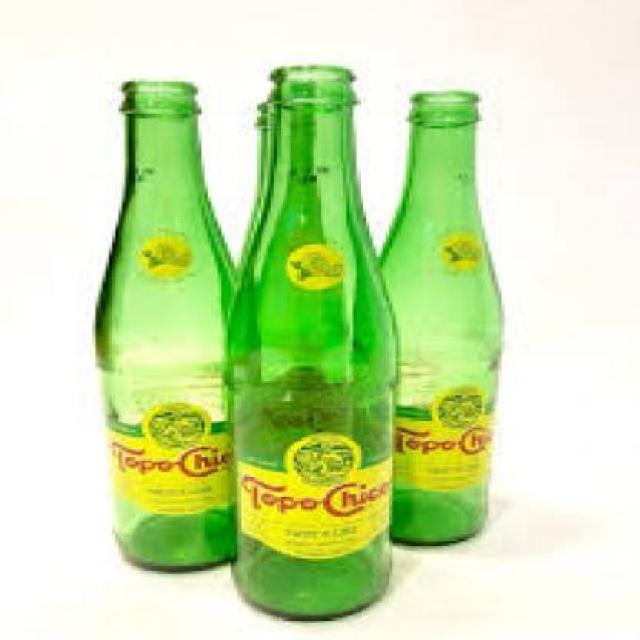kaca: (218, 65, 390, 620), (89, 77, 240, 571), (376, 88, 498, 544), (238, 100, 277, 288)
